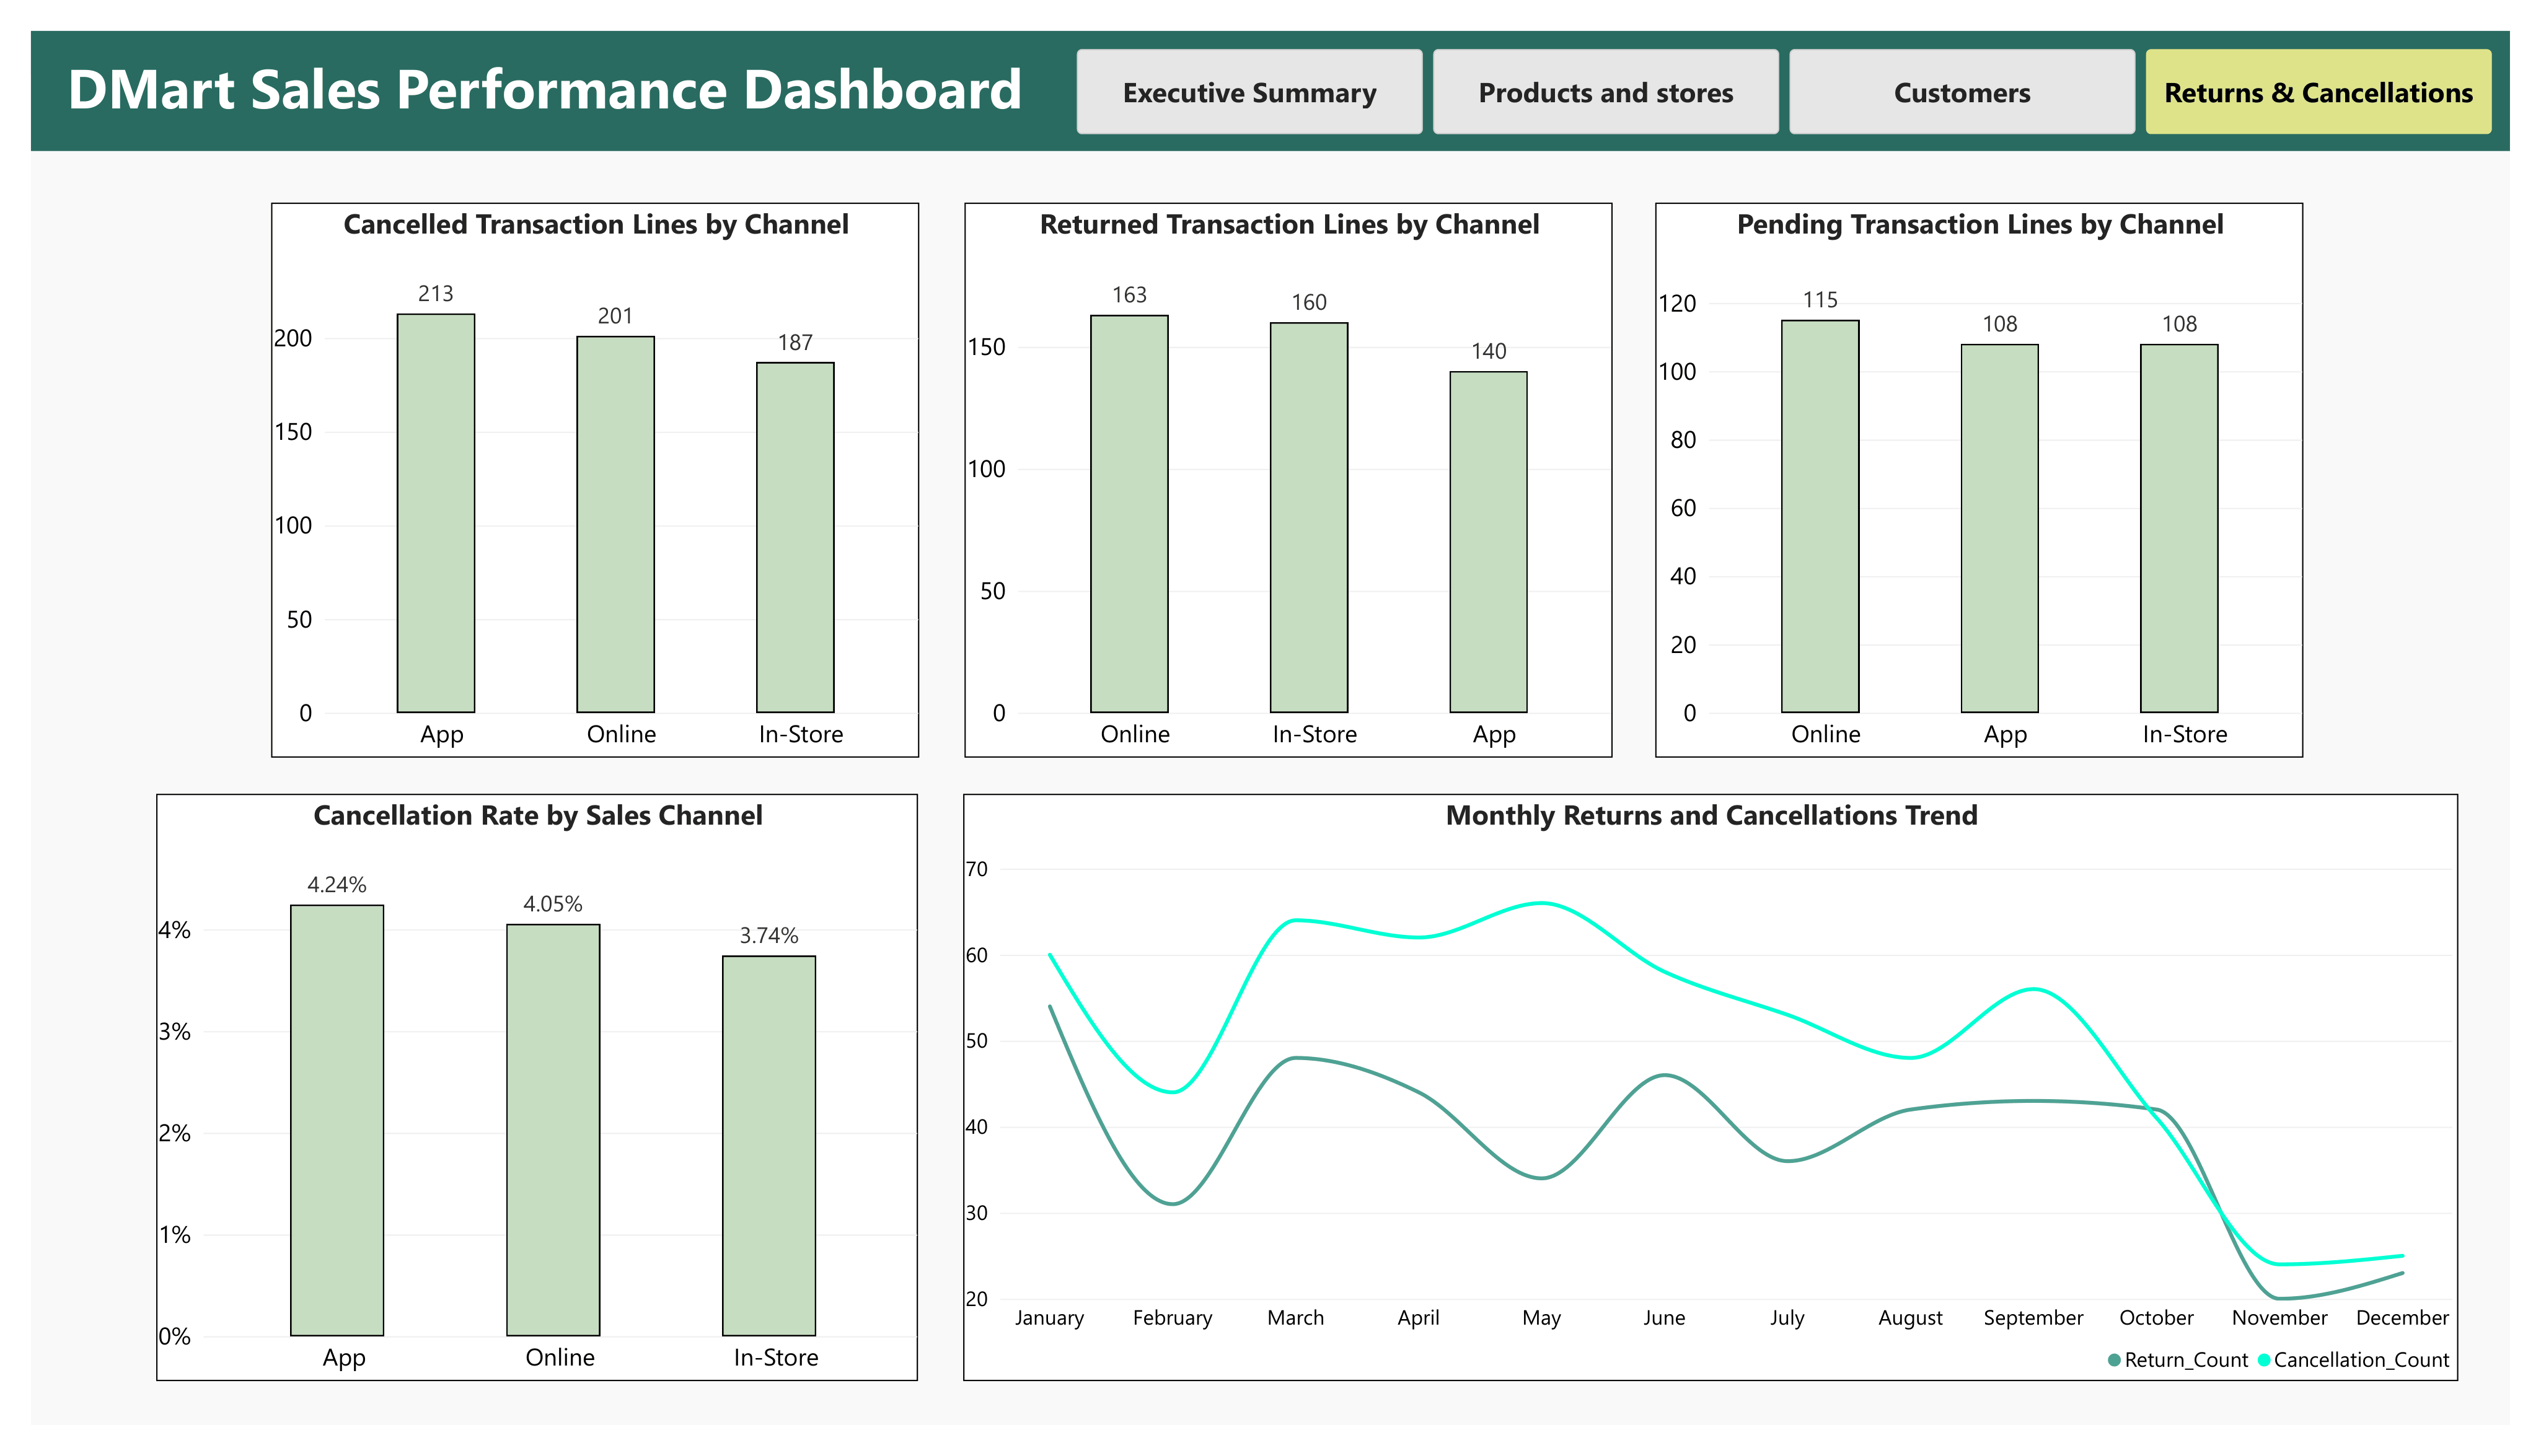

Layout of this report page (visuals, bound fields, positions):
{"tool":"powerbi","page":{"name":"Returns & Cancellations","canvas":[1920,1080],"ordinal":3},"visuals":[{"type":"columnChart","title":"Cancelled Transaction Lines by Channel","fields":{"Category":["transactions_clean.Sales_Channel"],"Y":["Measures_Created.Cancellation_Count"]},"box":[186.5,132.6,501.5,430.9],"z":0},{"type":"columnChart","title":"Returned Transaction Lines by Channel","fields":{"Category":["transactions_clean.Sales_Channel"],"Y":["Measures_Created.Return_Count"]},"box":[723.2,132.6,501.5,430.9],"z":1000},{"type":"columnChart","title":"Pending Transaction Lines by Channel","fields":{"Category":["transactions_clean.Sales_Channel"],"Y":["Measures_Created.Pending_Count"]},"box":[1258.1,132.6,501.5,430.9],"z":2000},{"type":"shape","box":[0,0,1920.4,92.8],"z":3000},{"type":"clusteredColumnChart","title":"Cancellation Rate by Sales Channel","fields":{"Category":["transactions_clean.Sales_Channel"],"Y":["Measures_Created.Cancellation_Rate"]},"box":[96.6,590.6,590.6,455],"z":6000},{"type":"lineChart","title":"Monthly Returns and Cancellations Trend","fields":{"Category":["Calendar_Table.Month Name"],"Y":["Measures_Created.Return_Count","Measures_Created.Cancellation_Count"]},"box":[722.5,590.6,1157.1,455],"z":7000},{"type":"pageNavigator","box":[810,14,1096,66],"z":7001},{"type":"textbox","box":[28,14,782,78],"z":7002}]}

Visuals, with their boxes in screenshot pixels (x1, y1, x2, y2):
"Cancelled Transaction Lines by Channel" columnChart: 257, 193, 911, 755
"Returned Transaction Lines by Channel" columnChart: 957, 193, 1611, 755
"Pending Transaction Lines by Channel" columnChart: 1655, 193, 2310, 755
shape: 13, 20, 2520, 141
"Cancellation Rate by Sales Channel" clusteredColumnChart: 139, 791, 910, 1384
"Monthly Returns and Cancellations Trend" lineChart: 956, 791, 2467, 1384
pageNavigator: 1070, 38, 2501, 125
textbox: 50, 38, 1070, 140
